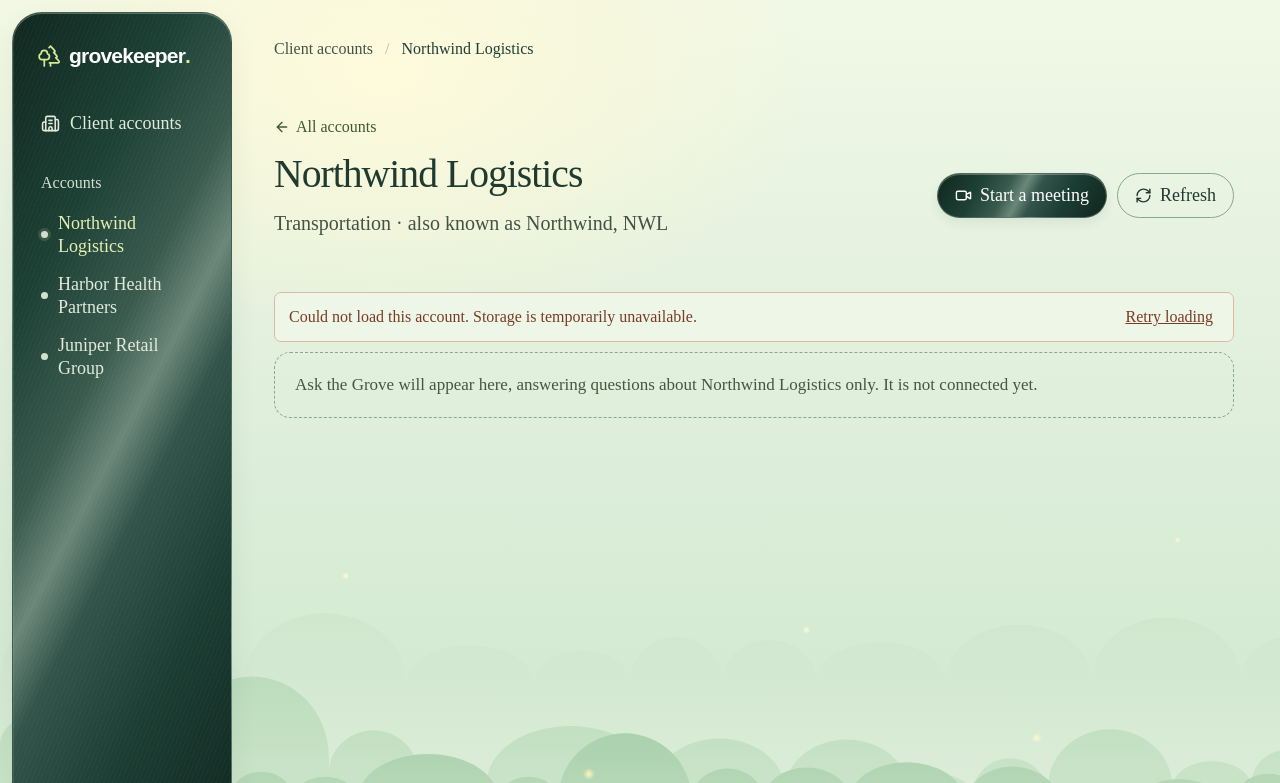
Test: account dashboard › reports a failed load and recovers on retry
Expected: the message shows "Could not load this account. Storage is temporarily unavailable.", [289,308,697,325]
Click the button "Retry loading" at (1169, 317), box [1120,307,1219,327]
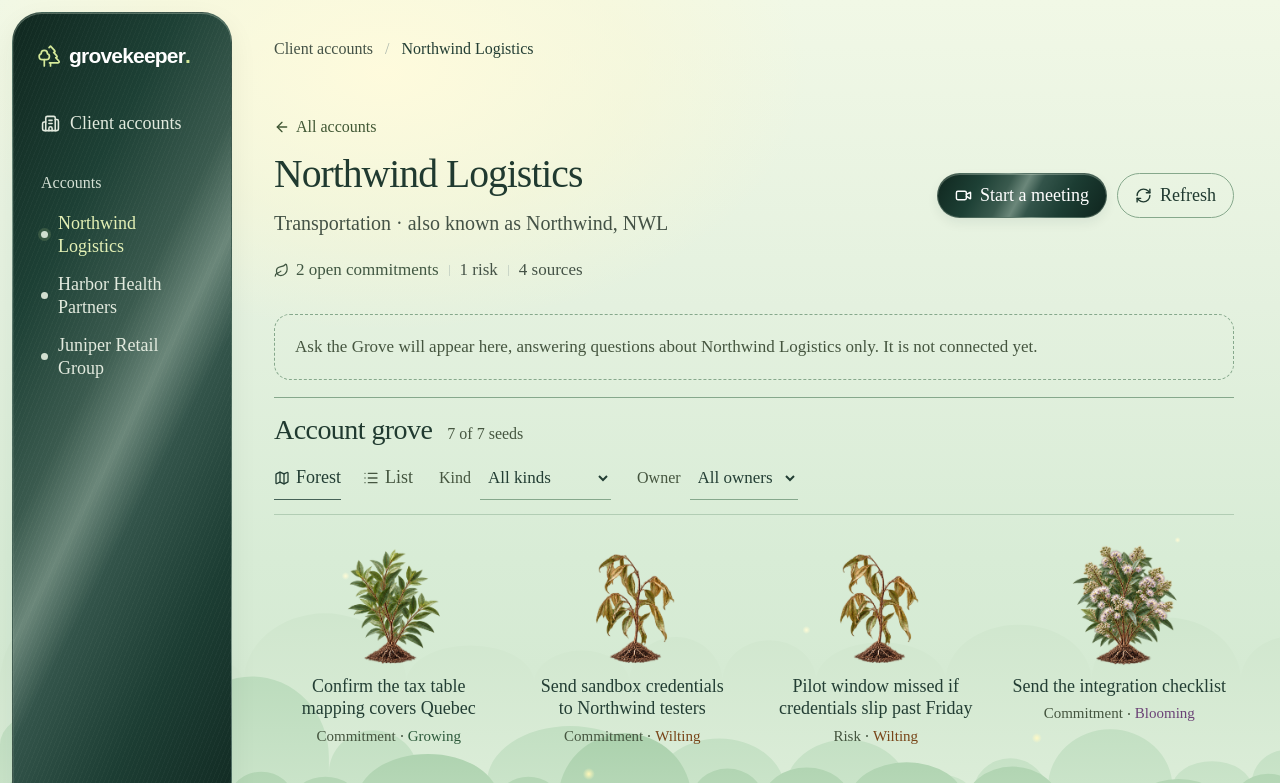
Expected: the message "Could not load this account. Storage is temporarily unavailable. Retry loading" is gone
